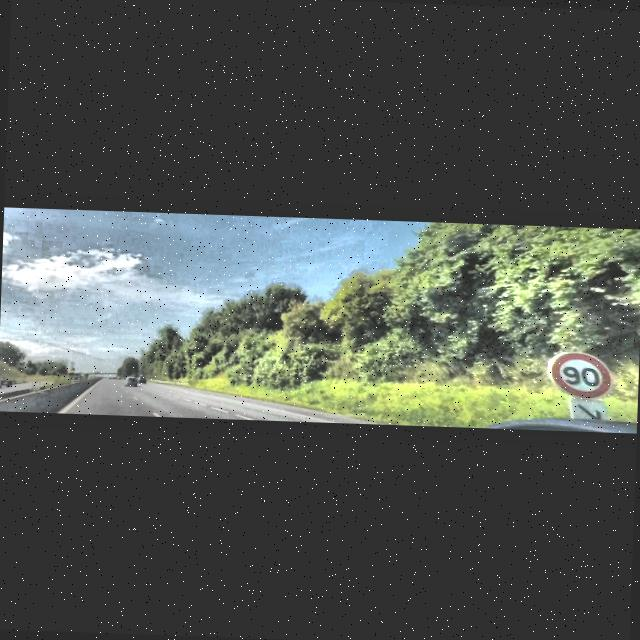speed_90: (549, 352, 613, 400)
